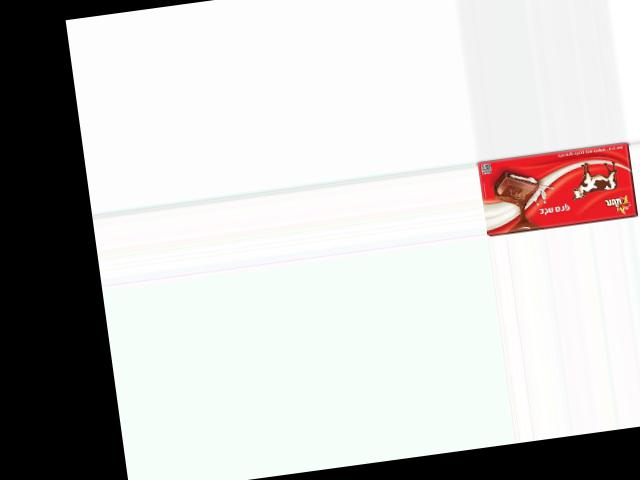chocolate: (477, 140, 640, 236)
